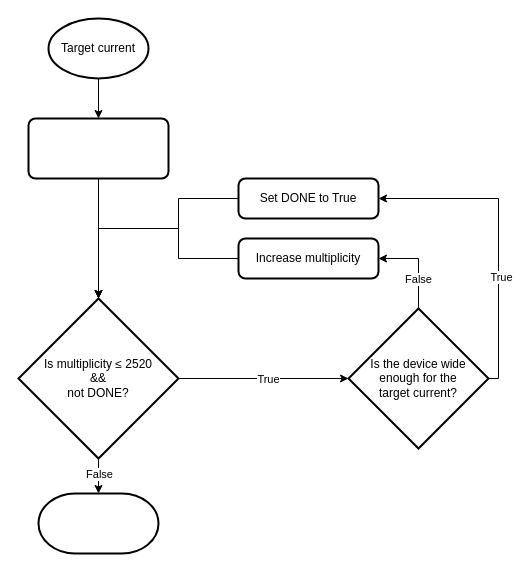
This 529x571 diagram has some shape labels left out. The centre of each missing label's shape, as x and y in pixels:
Minimum NMOS multiplicity: [98,523]
Set multiplicity to 4 Set DONE to False: [98,148]
